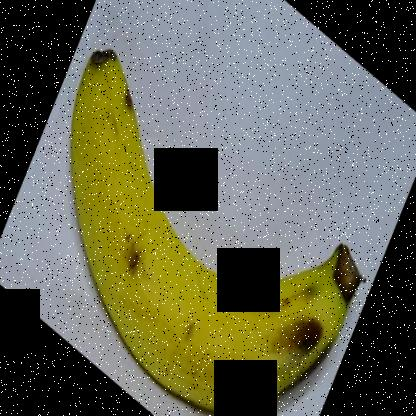freshripe: (61, 35, 373, 414)
